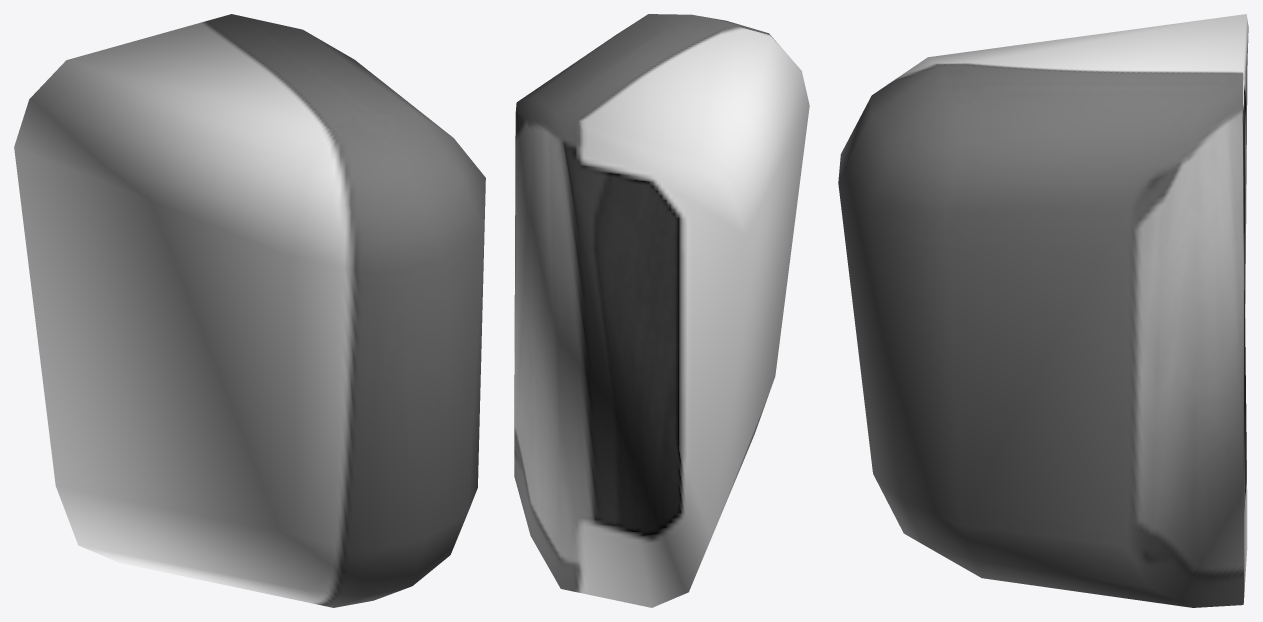
Rendered from hand_finger_3.dae.
3 renders of one model, left to right at view 1: azimuth 30°, elevation 25°; view 2: azimuth 150°, elevation 25°; view 3: azimuth 270°, elevation 25°, orthographic. The views are drawn at different scales.
Parts seen in each view (by area): view 1: default; view 2: default; view 3: default.
Boxes of the visible parts, x1=… form: default: x1=14, y1=14, x2=485, y2=607; default: x1=514, y1=14, x2=809, y2=607; default: x1=838, y1=14, x2=1248, y2=607.
Bounding box in the file's own units: 0.0204 × 0.0229 × 0.0322.
1 material, 1 textured.
